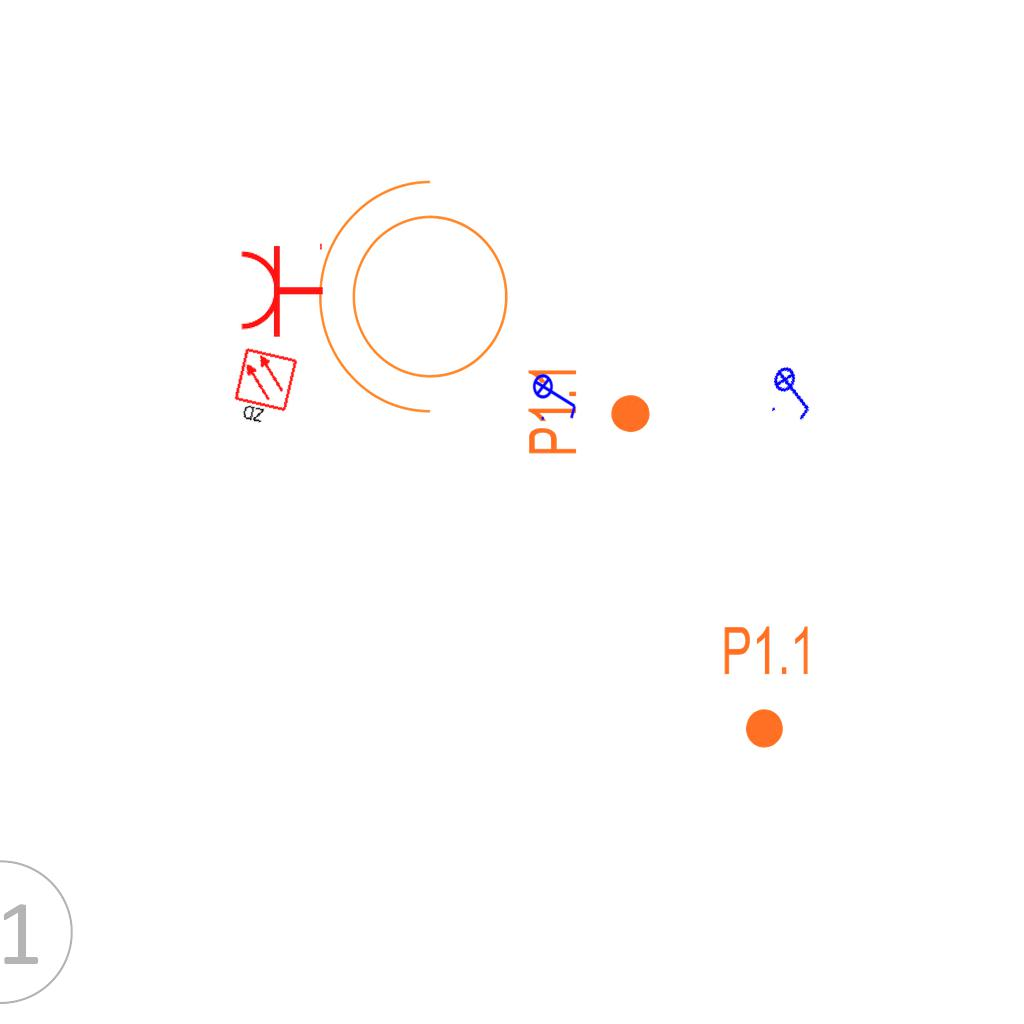Ausschalter_beleuchtet: (761, 357, 827, 427), (532, 367, 580, 423)
Downlight_LED_Einbauleuchten_Flur: (721, 623, 814, 751), (525, 364, 653, 457)
Scheinwerfer_fuer_Alarmbeleuchtung: (308, 171, 533, 435)
Schukosteckdose_einfach: (238, 239, 325, 339)
ZD_Melder_in_Zwischendecke_mit_Revisionsoeffnung_mind_40_x_40_cm: (228, 346, 301, 432)
